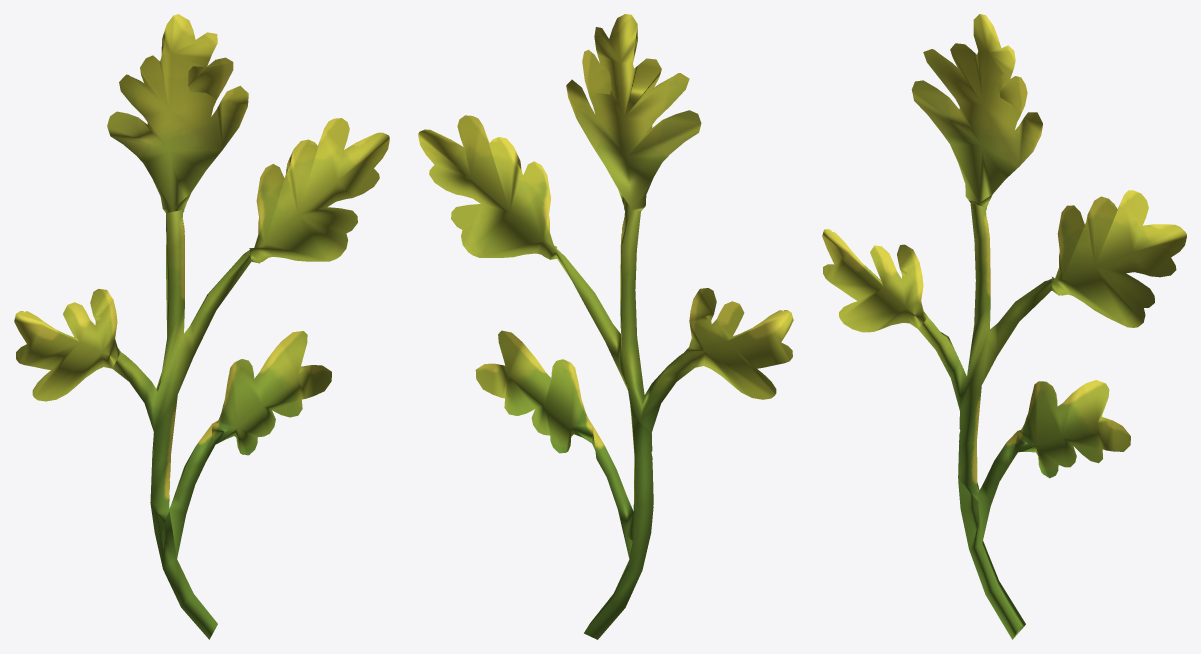
The model's file is Seledri.fbx.
3 views of the same model, side by side, from view 1: azimuth 30°, elevation 25°; view 2: azimuth 150°, elevation 25°; view 3: azimuth 330°, elevation 25° (orthographic). The views are drawn at different scales.
Visible parts, largest first — view 1: Plane.020; view 2: Plane.020; view 3: Plane.020.
Part boxes in pixels (x1=…): Plane.020: x1=14, y1=14, x2=389, y2=639; Plane.020: x1=418, y1=14, x2=793, y2=639; Plane.020: x1=822, y1=14, x2=1186, y2=639.
Size of the model in its own units: 17.45 by 1.24 by 28.12.
Materials: 1 (1 with a texture image).
